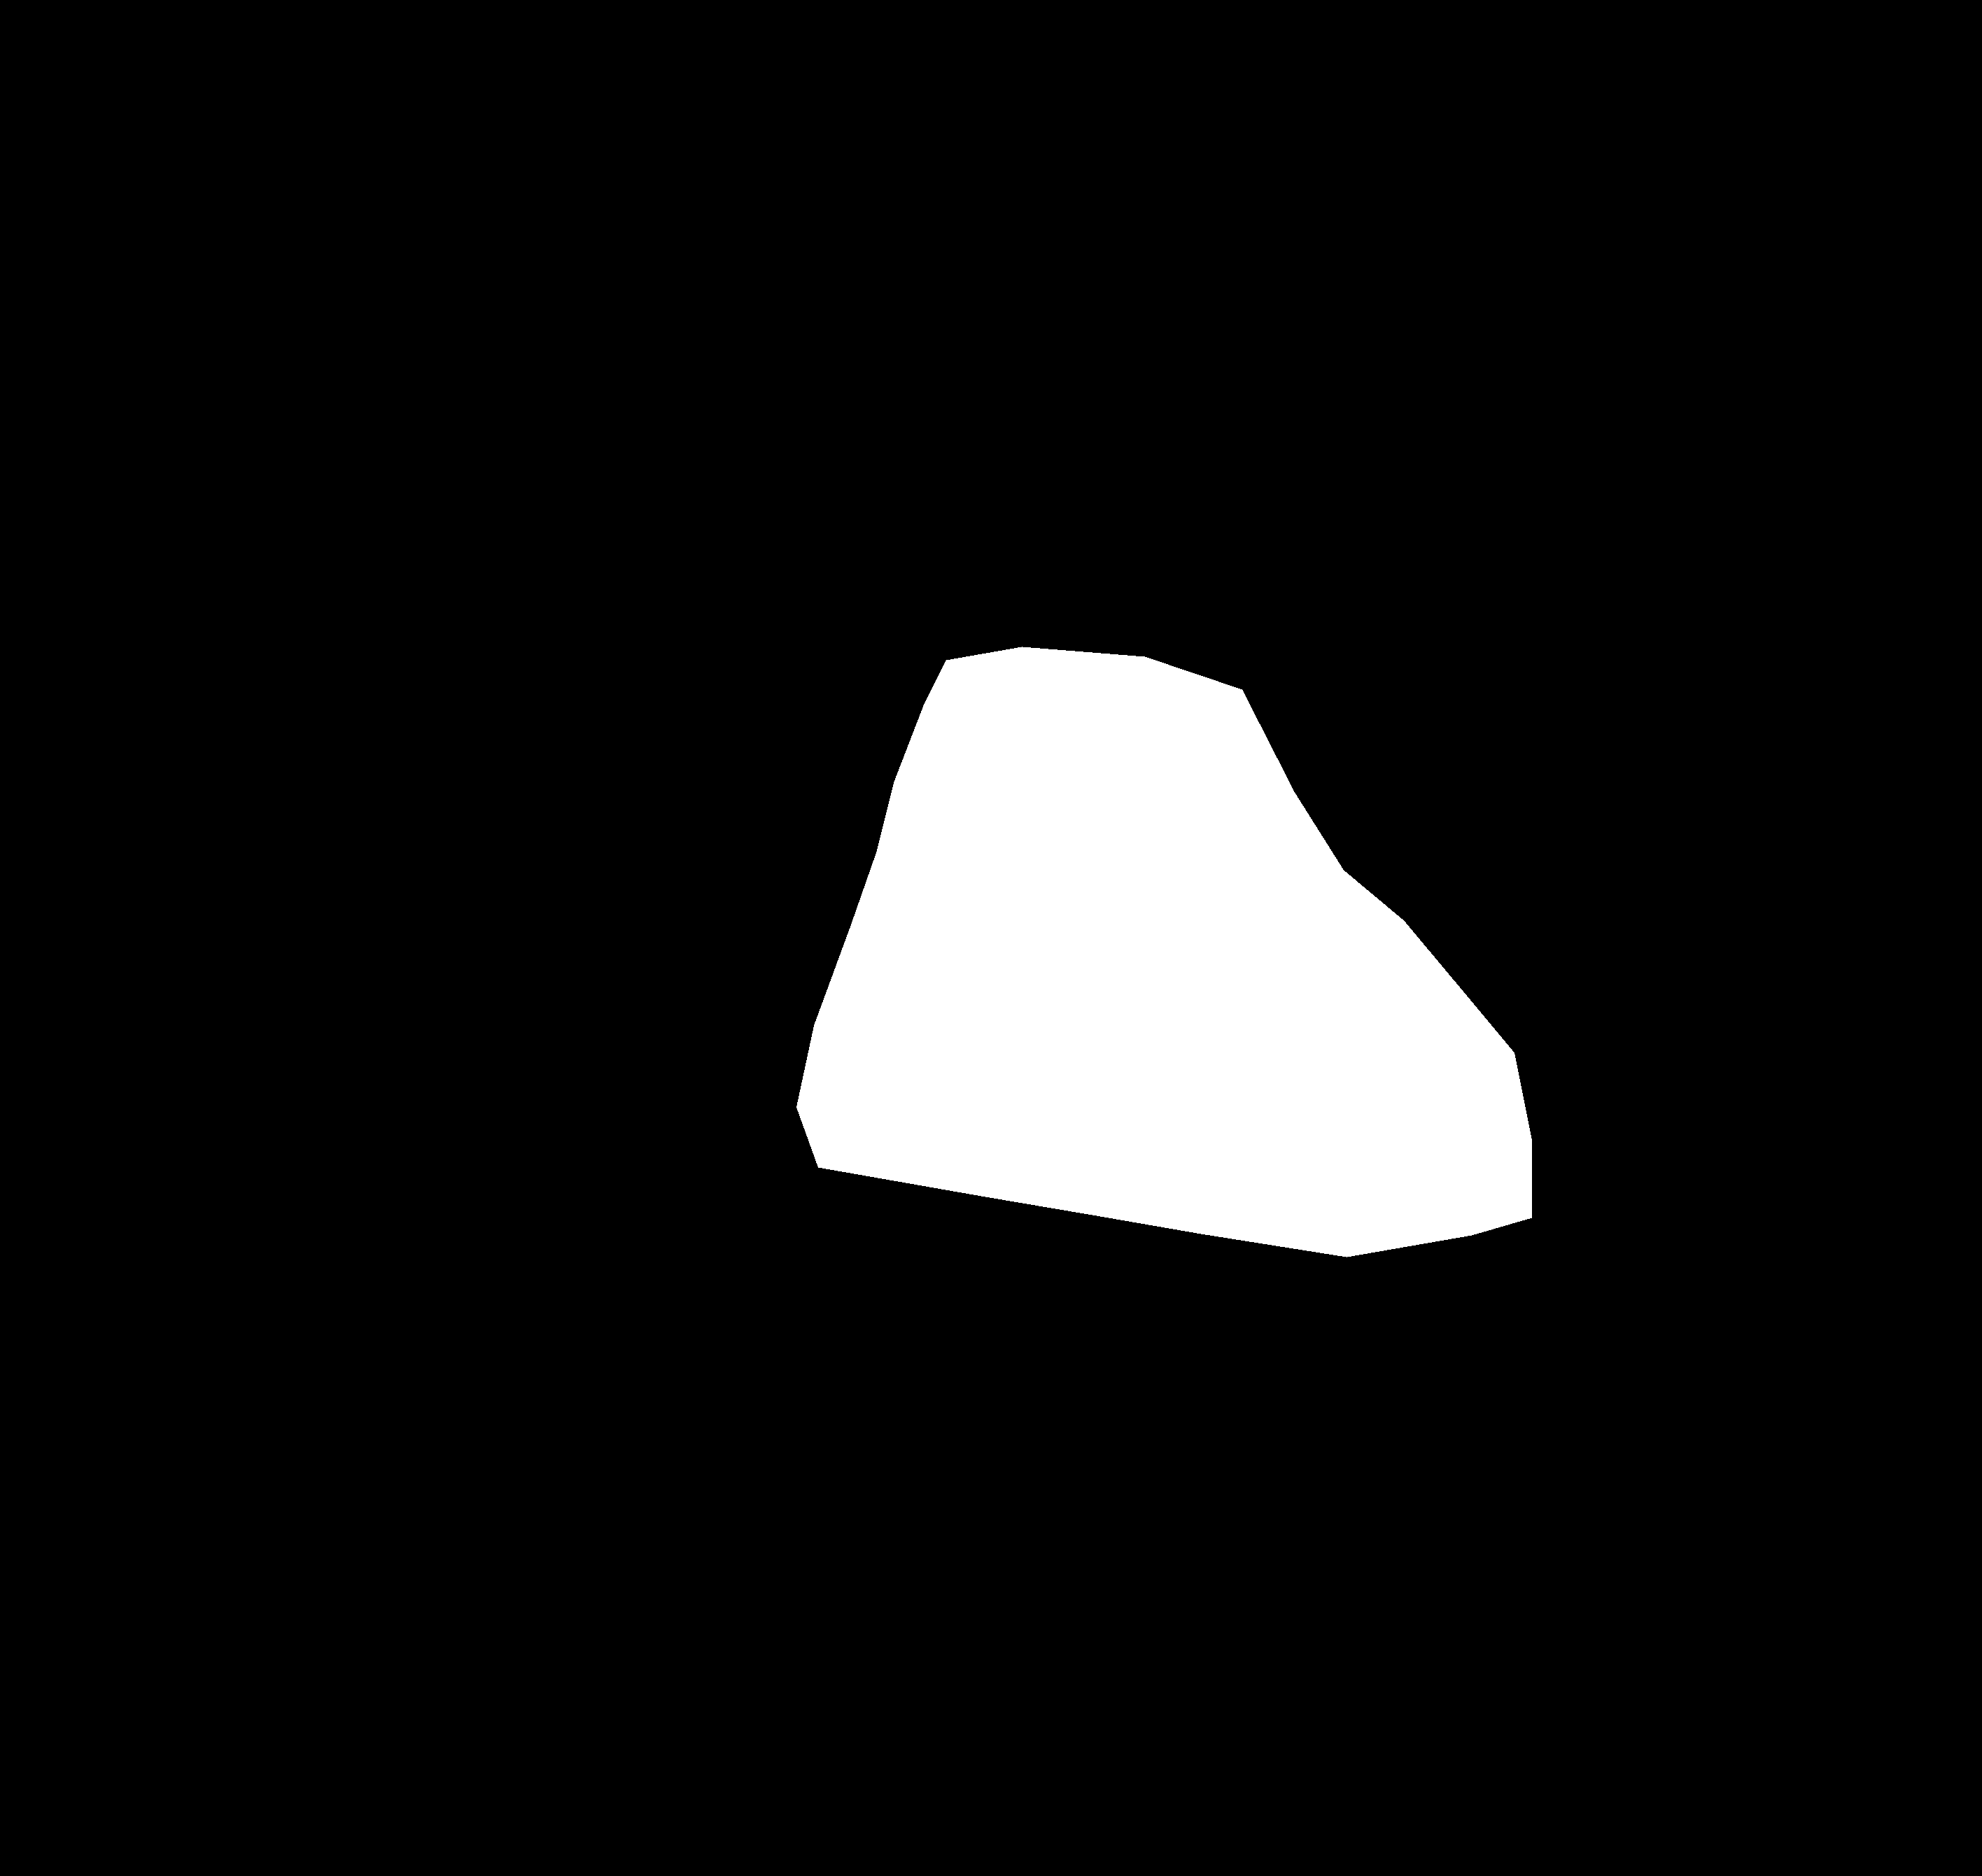heart: (797, 647, 1531, 1257)
left_lung: (146, 153, 986, 1356)
right_lung: (1144, 132, 1836, 1467)
